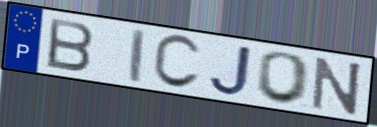B: (45, 15, 97, 74)
C: (150, 33, 204, 91)
I: (129, 26, 147, 85)
J: (207, 43, 255, 97)
N: (310, 55, 364, 116)
O: (253, 50, 314, 107)
